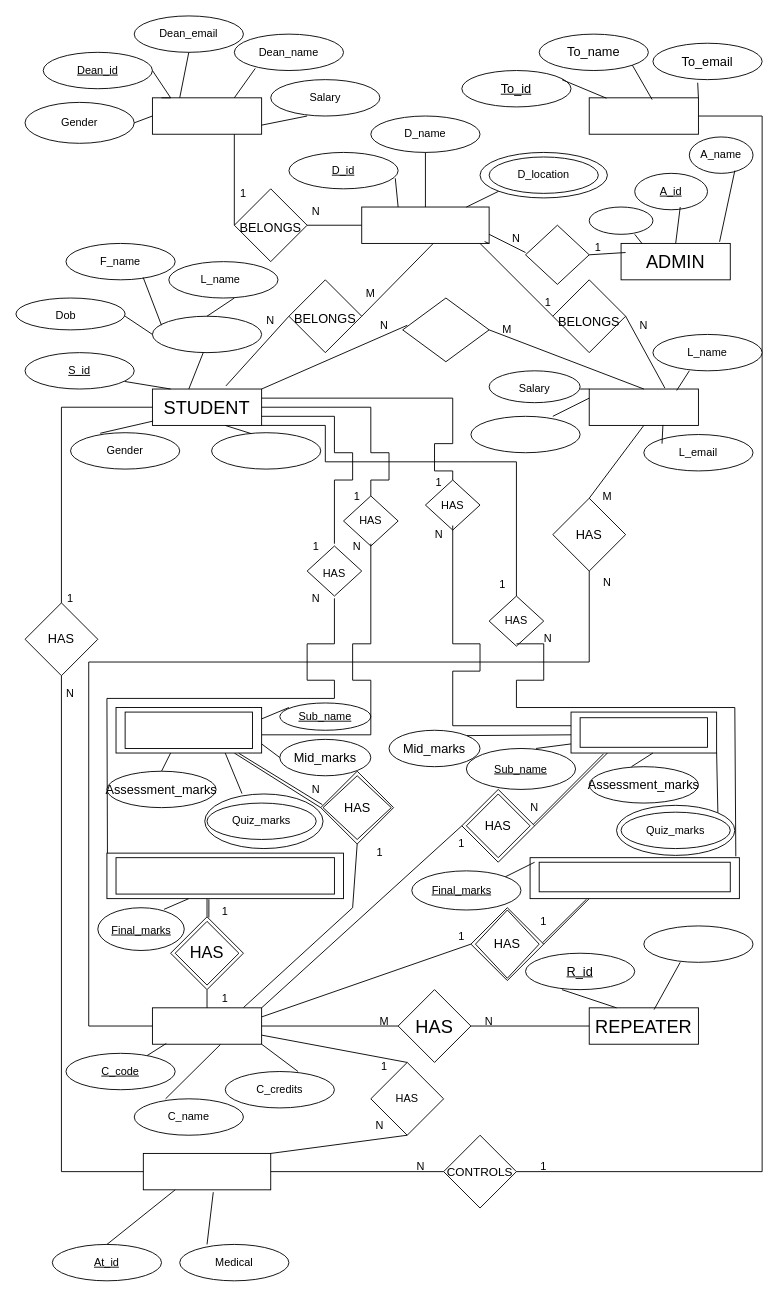
Some shapes in this 779 by 1297 pixel diagram are drawn without their labels. Each missing label, with the centre of its shape:
"A_email" goes at pixel 620 220.
"ATTENDENCE" goes at pixel 206 1171.
"CONTROL" goes at pixel 557 254.
"COURSE" goes at pixel 207 1025.
"DEAN" goes at pixel 207 115.
"DEPARTMENT" goes at pixel 425 224.
"L_id" goes at pixel 525 434.
"LECTURERE" goes at pixel 643 406.
"PRACTICAL_CA" goes at pixel 643 732.
"PRACTICAL_FINAL_MARKS" goes at pixel 634 876.
"R_name" goes at pixel 698 943.
"S_email" goes at pixel 266 450.
"S_name" goes at pixel 207 334.
"T_OFFICER" goes at pixel 643 115.
"Teaches" goes at pixel 445 329.
"THEORY_CA" goes at pixel 188 729.
"THEORY_FINAL MARKS" goes at pixel 224 875.
